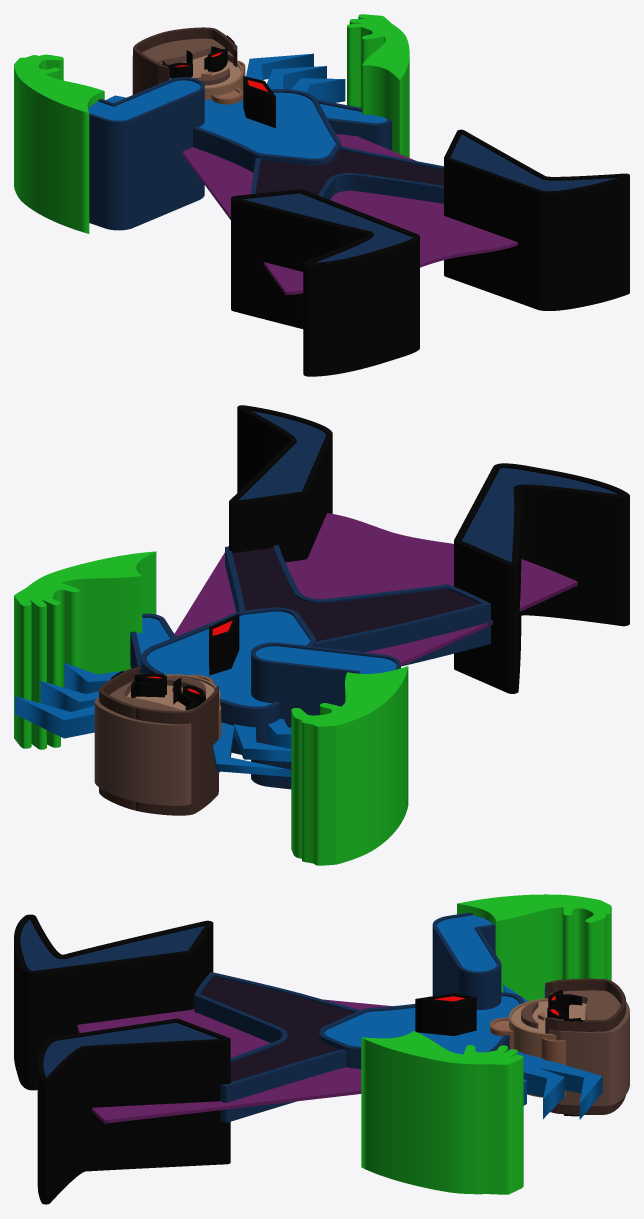
The model's file is emoji_u1f9b9_1f3fd_200d_2642.glb.
The picture shows the model from 3 angles, top to bottom: view 1: azimuth 30°, elevation 25°; view 2: azimuth 150°, elevation 25°; view 3: azimuth 270°, elevation 25°; orthographic projection. The views are drawn at different scales.
Parts seen in each view (by area): view 1: emoji_u1f9b9_1f3fd_200d_2642; view 2: emoji_u1f9b9_1f3fd_200d_2642; view 3: emoji_u1f9b9_1f3fd_200d_2642.
Boxes of the visible parts, <box> form: emoji_u1f9b9_1f3fd_200d_2642: <box>14,14,629,376</box>; emoji_u1f9b9_1f3fd_200d_2642: <box>14,405,629,865</box>; emoji_u1f9b9_1f3fd_200d_2642: <box>14,894,629,1204</box>.
Size of the model in its own units: 0.0238 by 0.0078 by 0.0335.
